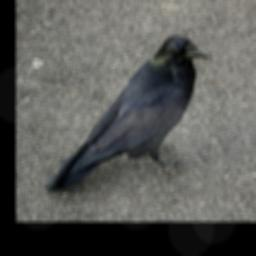Crow: (44, 35, 212, 195)
